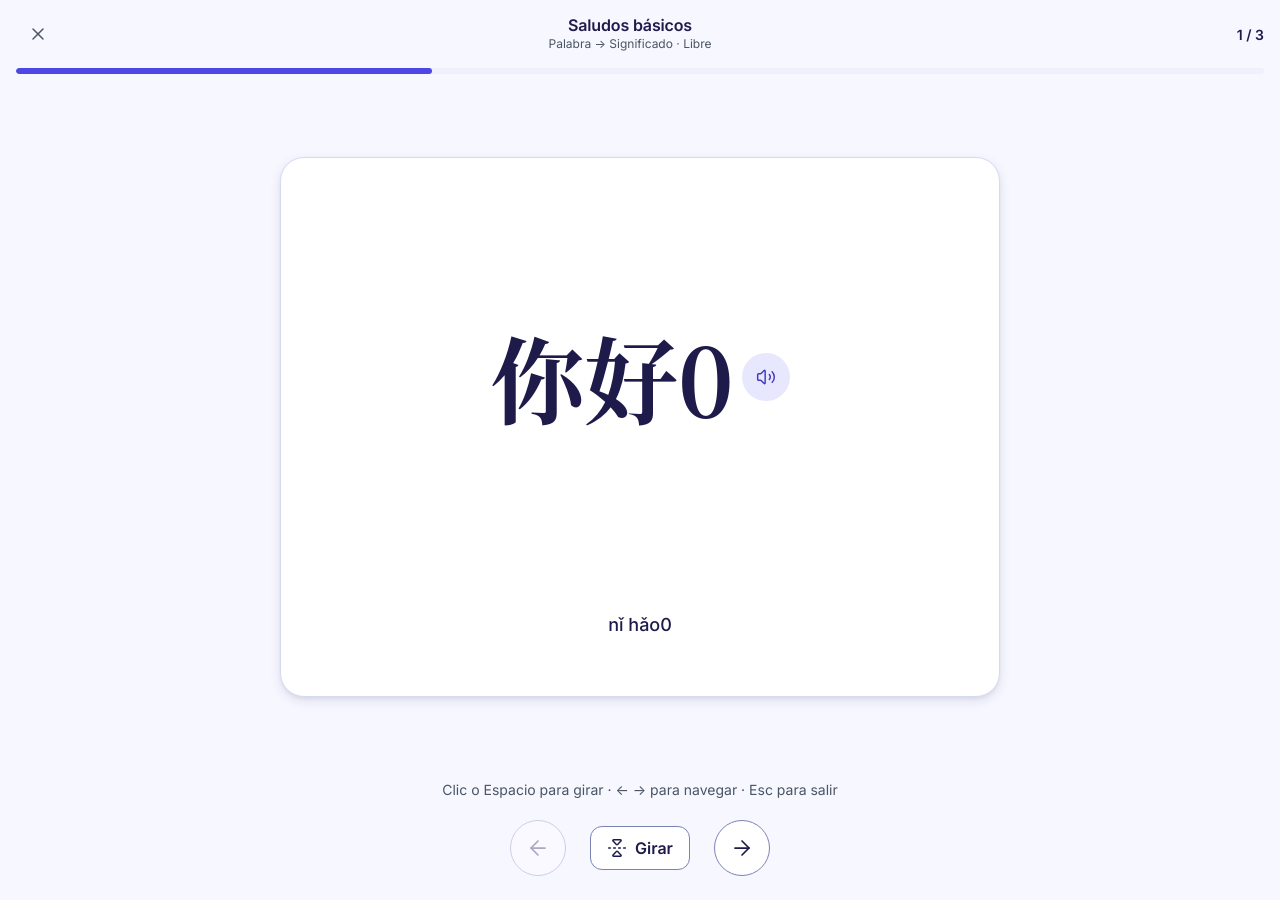
Test: R01 · Frente de la carta › R01-3 en PC las flechas del teclado navegan y los botones en pantalla hacen lo mismo
Expected: the progress indicator is shown, x1=16 y1=68 x2=1264 y2=74
Press Arrowright
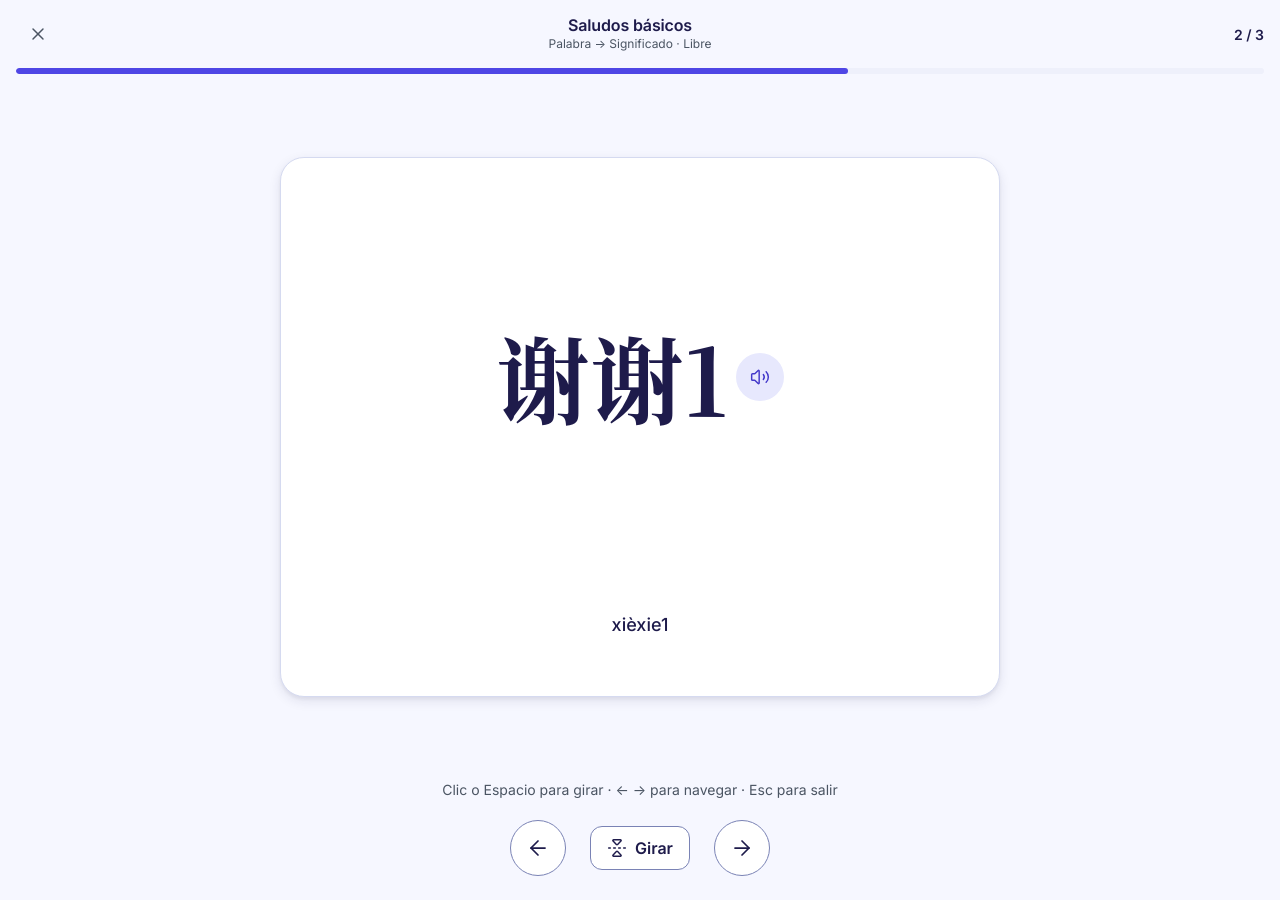
Expected: the text "2 / 3" is shown, x1=1234 y1=26 x2=1264 y2=42
Press Arrowleft
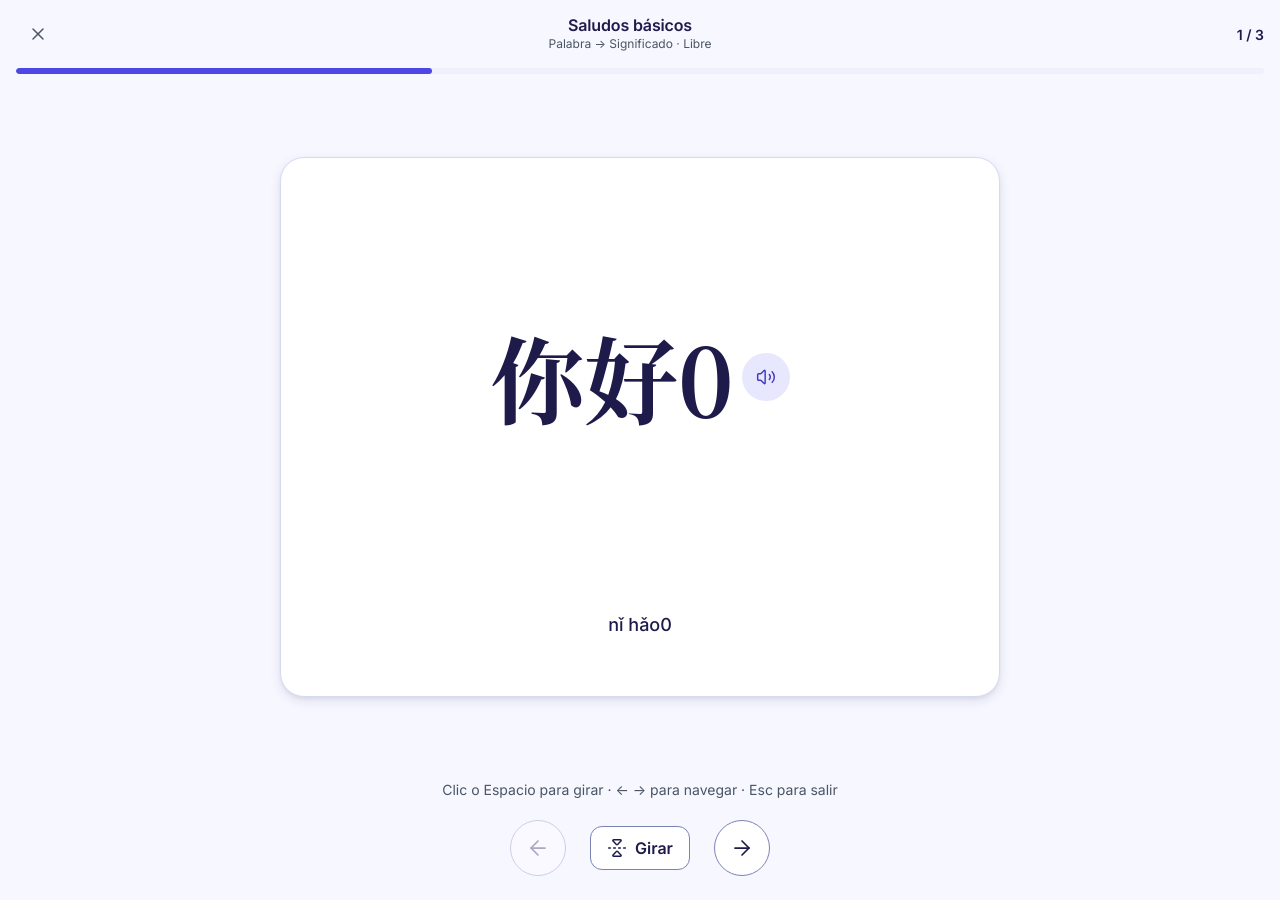
Expected: the text "1 / 3" is shown, x1=1237 y1=26 x2=1264 y2=42
Click the button named "Carta siguiente" at (742, 848), box x1=714 y1=820 x2=770 y2=876
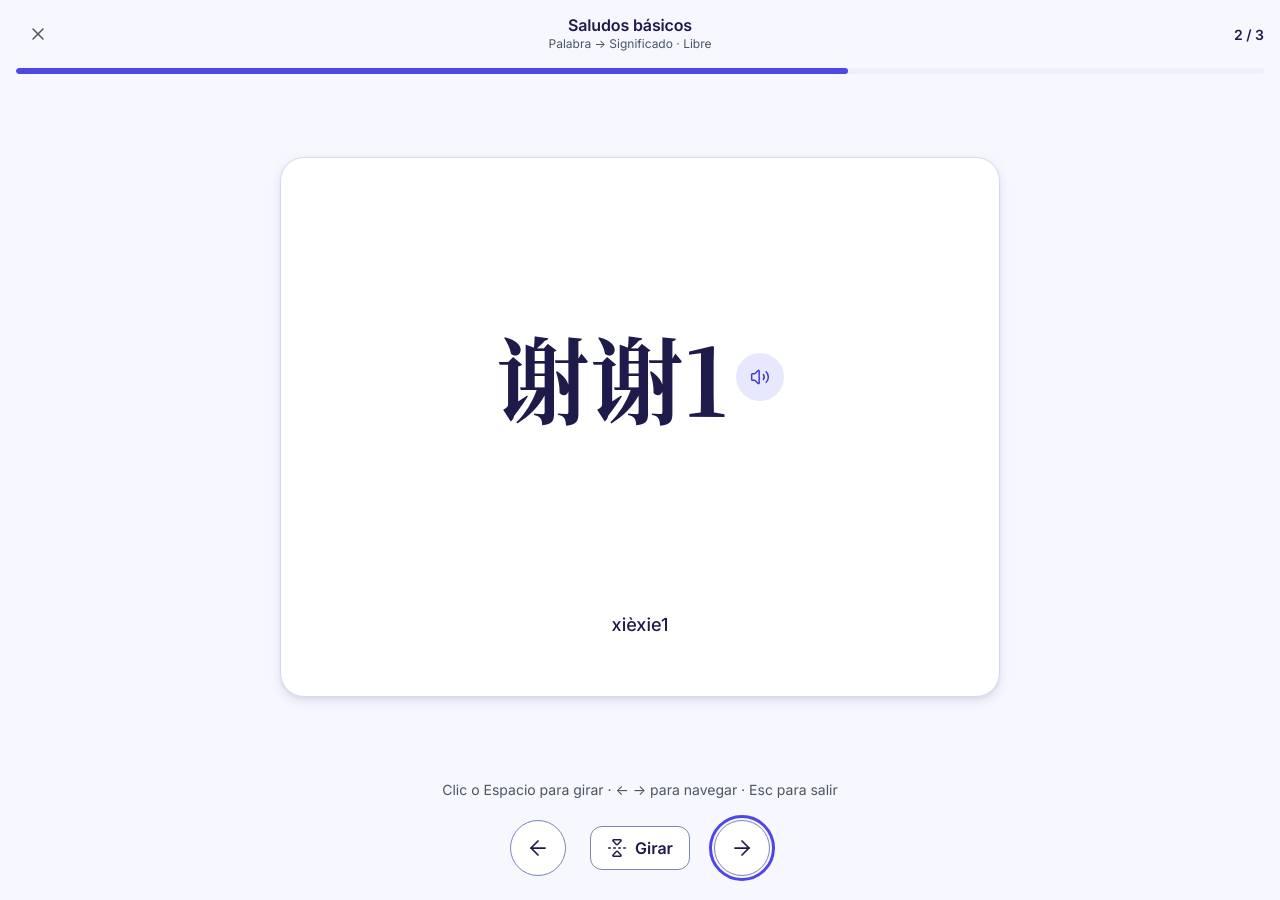
Expected: the text "2 / 3" is shown, x1=1234 y1=26 x2=1264 y2=42
Click the button named "Carta anterior" at (538, 848), box x1=510 y1=820 x2=566 y2=876
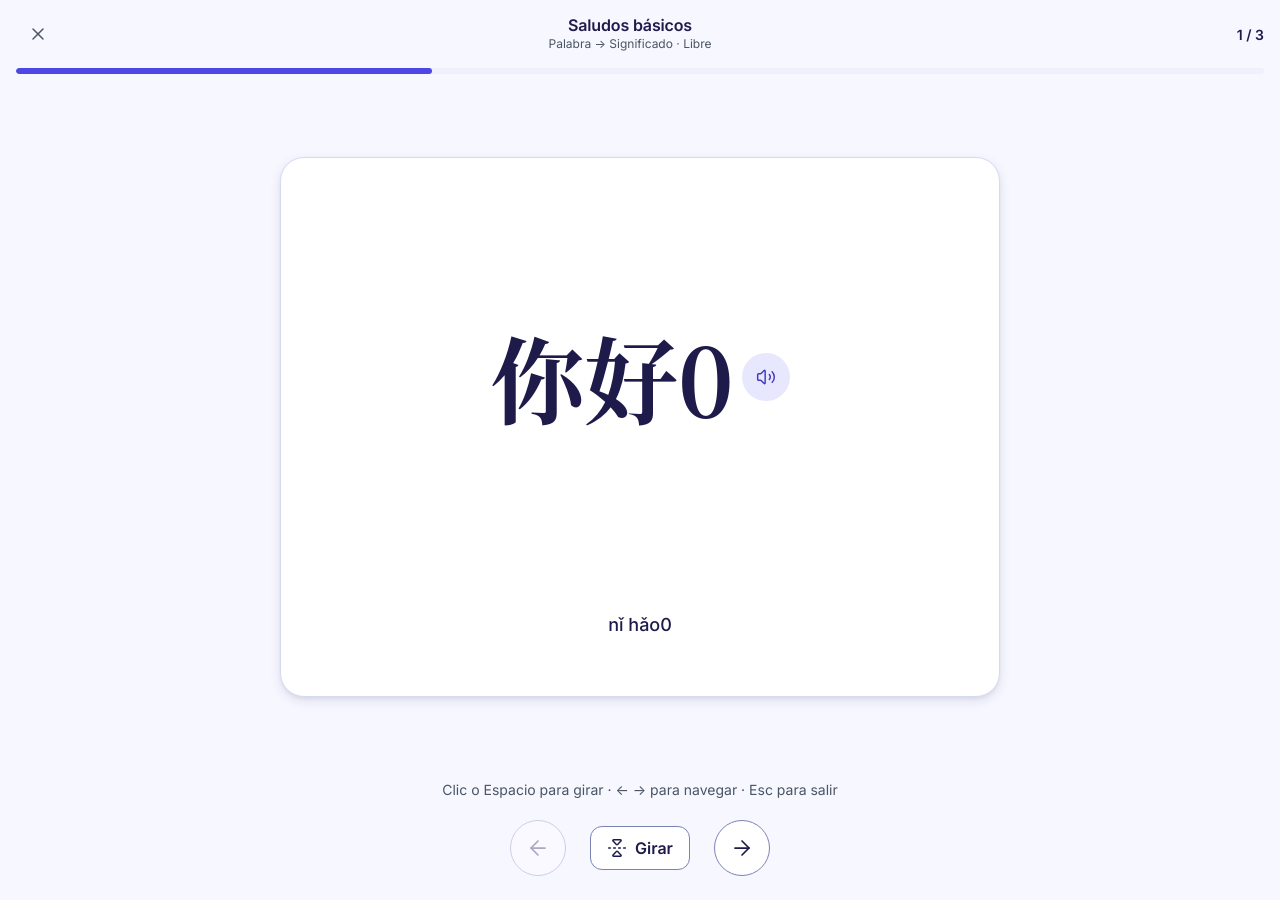
Expected: the text "1 / 3" is shown, x1=1237 y1=26 x2=1264 y2=42
